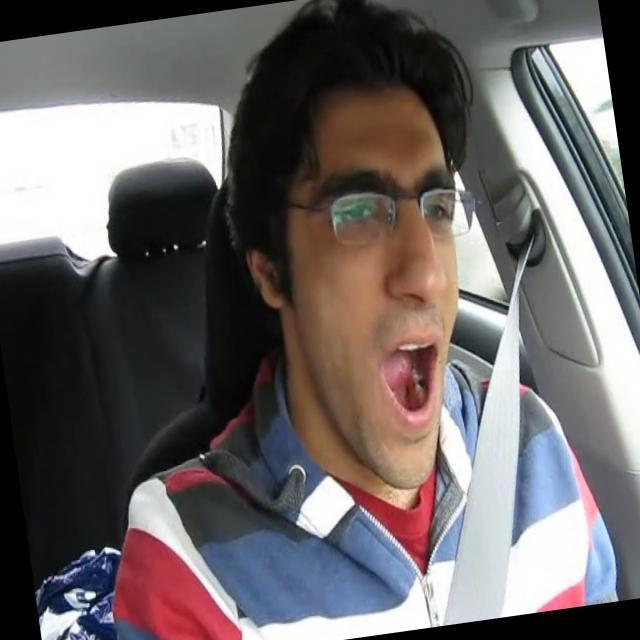open-mouth: (377, 333, 440, 426)
